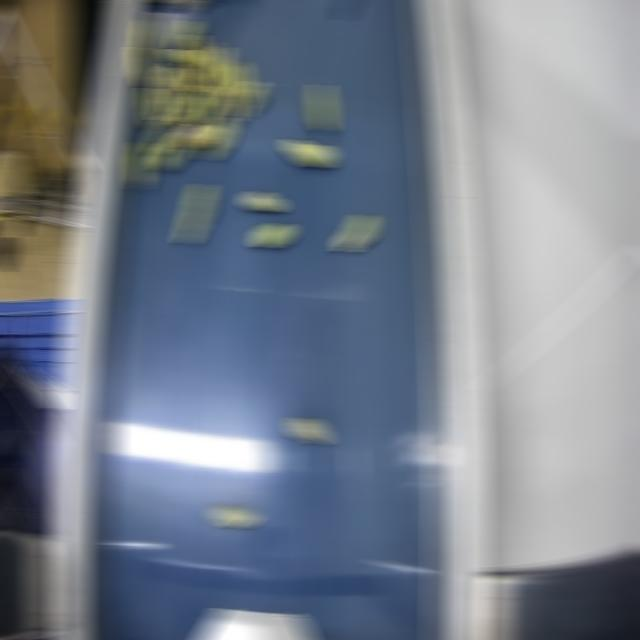Baby Potato: (180, 182, 213, 245), (336, 212, 374, 252), (285, 137, 333, 168), (176, 84, 212, 125), (200, 116, 232, 161), (151, 134, 187, 171), (288, 415, 330, 445), (218, 62, 240, 119), (212, 504, 260, 530), (148, 114, 178, 154), (153, 65, 175, 118), (198, 40, 220, 91), (253, 220, 293, 248), (162, 62, 184, 112), (236, 79, 264, 117), (311, 82, 333, 130), (129, 142, 151, 190), (198, 84, 222, 127), (187, 34, 209, 80), (130, 46, 154, 88), (180, 121, 217, 148), (243, 188, 283, 212), (210, 45, 229, 95), (228, 59, 250, 101), (142, 85, 162, 128), (134, 19, 156, 56), (172, 19, 198, 48), (164, 47, 198, 68), (173, 66, 199, 92)
